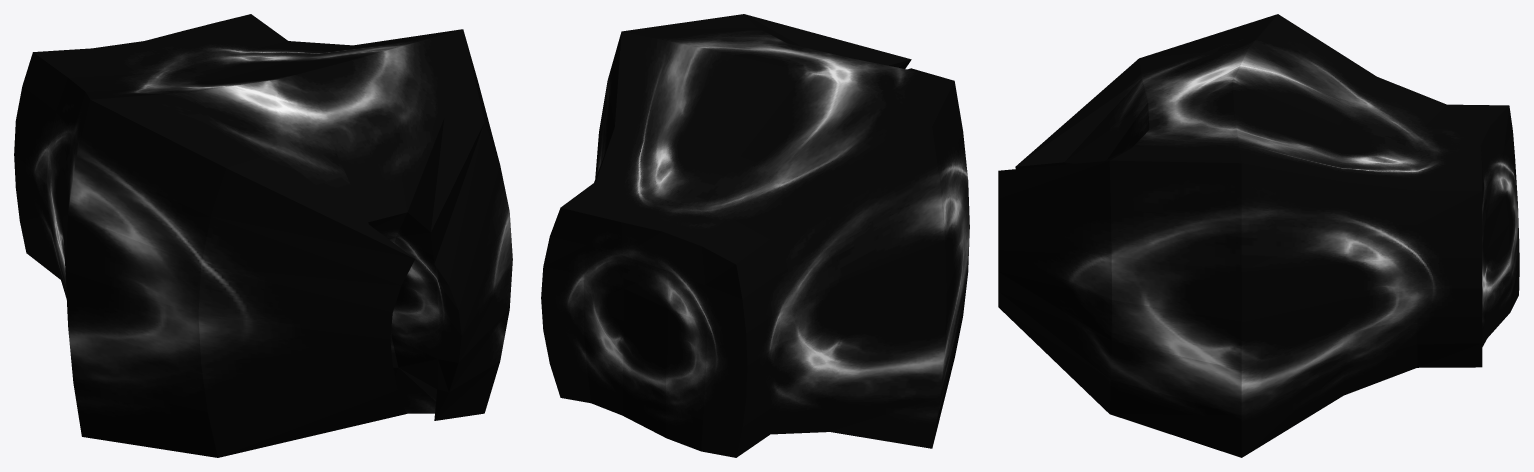
3 renders of one model, left to right at view 1: azimuth 30°, elevation 25°; view 2: azimuth 150°, elevation 25°; view 3: azimuth 270°, elevation 25°, orthographic. The views are drawn at different scales.
Size of the model in its own units: 1.69 by 1.37 by 2.2.
1 material, 1 textured.
